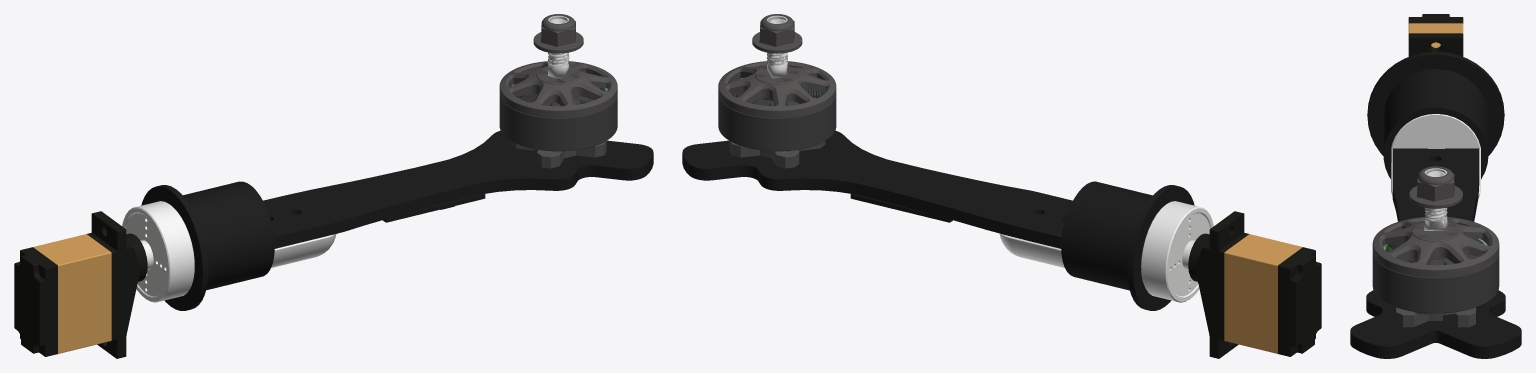
File: arm.dae
3 renders of one model, left to right at view 1: azimuth 30°, elevation 25°; view 2: azimuth 150°, elevation 25°; view 3: azimuth 270°, elevation 25°, orthographic. The views are drawn at different scales.
Visible parts, largest first — view 1: nd3, nd5, nd1, nd17, nd4, nd0, nd10, nd11; view 2: nd3, nd5, nd1, nd17, nd4, nd0, nd10, nd11; view 3: nd3, nd1, nd0, nd4, nd5, nd17, nd11.
Part boxes in pixels (bbox=[...]): nd3: bbox=[141, 130, 653, 310]; nd5: bbox=[14, 211, 147, 358]; nd1: bbox=[499, 14, 617, 168]; nd17: bbox=[33, 234, 111, 353]; nd4: bbox=[122, 201, 336, 302]; nd0: bbox=[499, 88, 617, 151]; nd10: bbox=[126, 213, 166, 296]; nd11: bbox=[547, 18, 569, 78]; nd3: bbox=[682, 130, 1194, 310]; nd5: bbox=[1188, 211, 1321, 358]; nd1: bbox=[718, 14, 836, 168]; nd17: bbox=[1224, 234, 1302, 353]; nd4: bbox=[999, 201, 1213, 302]; nd0: bbox=[718, 90, 836, 151]; nd10: bbox=[1169, 213, 1209, 296]; nd11: bbox=[766, 18, 787, 78]; nd3: bbox=[1350, 51, 1521, 358]; nd1: bbox=[1372, 166, 1499, 327]; nd0: bbox=[1372, 239, 1499, 313]; nd4: bbox=[1391, 114, 1480, 199]; nd5: bbox=[1408, 14, 1463, 56]; nd17: bbox=[1408, 23, 1463, 47]; nd11: bbox=[1424, 170, 1447, 230].
Size of the model in its own units: 0.1628 by 0.0375 by 0.0568.
